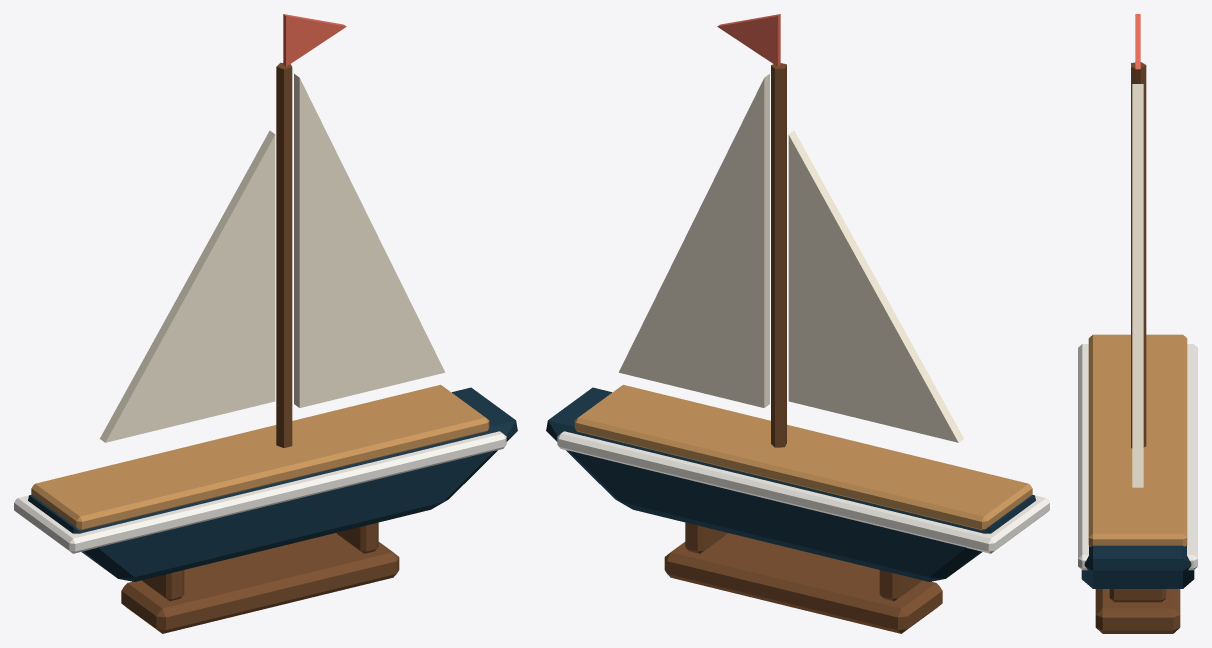
The model's file is model_sailboat.glb.
3 views of the same model, side by side, from view 1: azimuth 30°, elevation 25°; view 2: azimuth 150°, elevation 25°; view 3: azimuth 270°, elevation 25° (orthographic).
Visible parts, largest first — view 1: model_sailboat; view 2: model_sailboat; view 3: model_sailboat.
Part boxes in pixels (left/top/right/bottom): model_sailboat: left=14, top=14, right=517, bottom=633; model_sailboat: left=546, top=14, right=1049, bottom=633; model_sailboat: left=1078, top=14, right=1197, bottom=633.
Bounding box in the file's own units: 0.3735 × 0.45 × 0.085.
